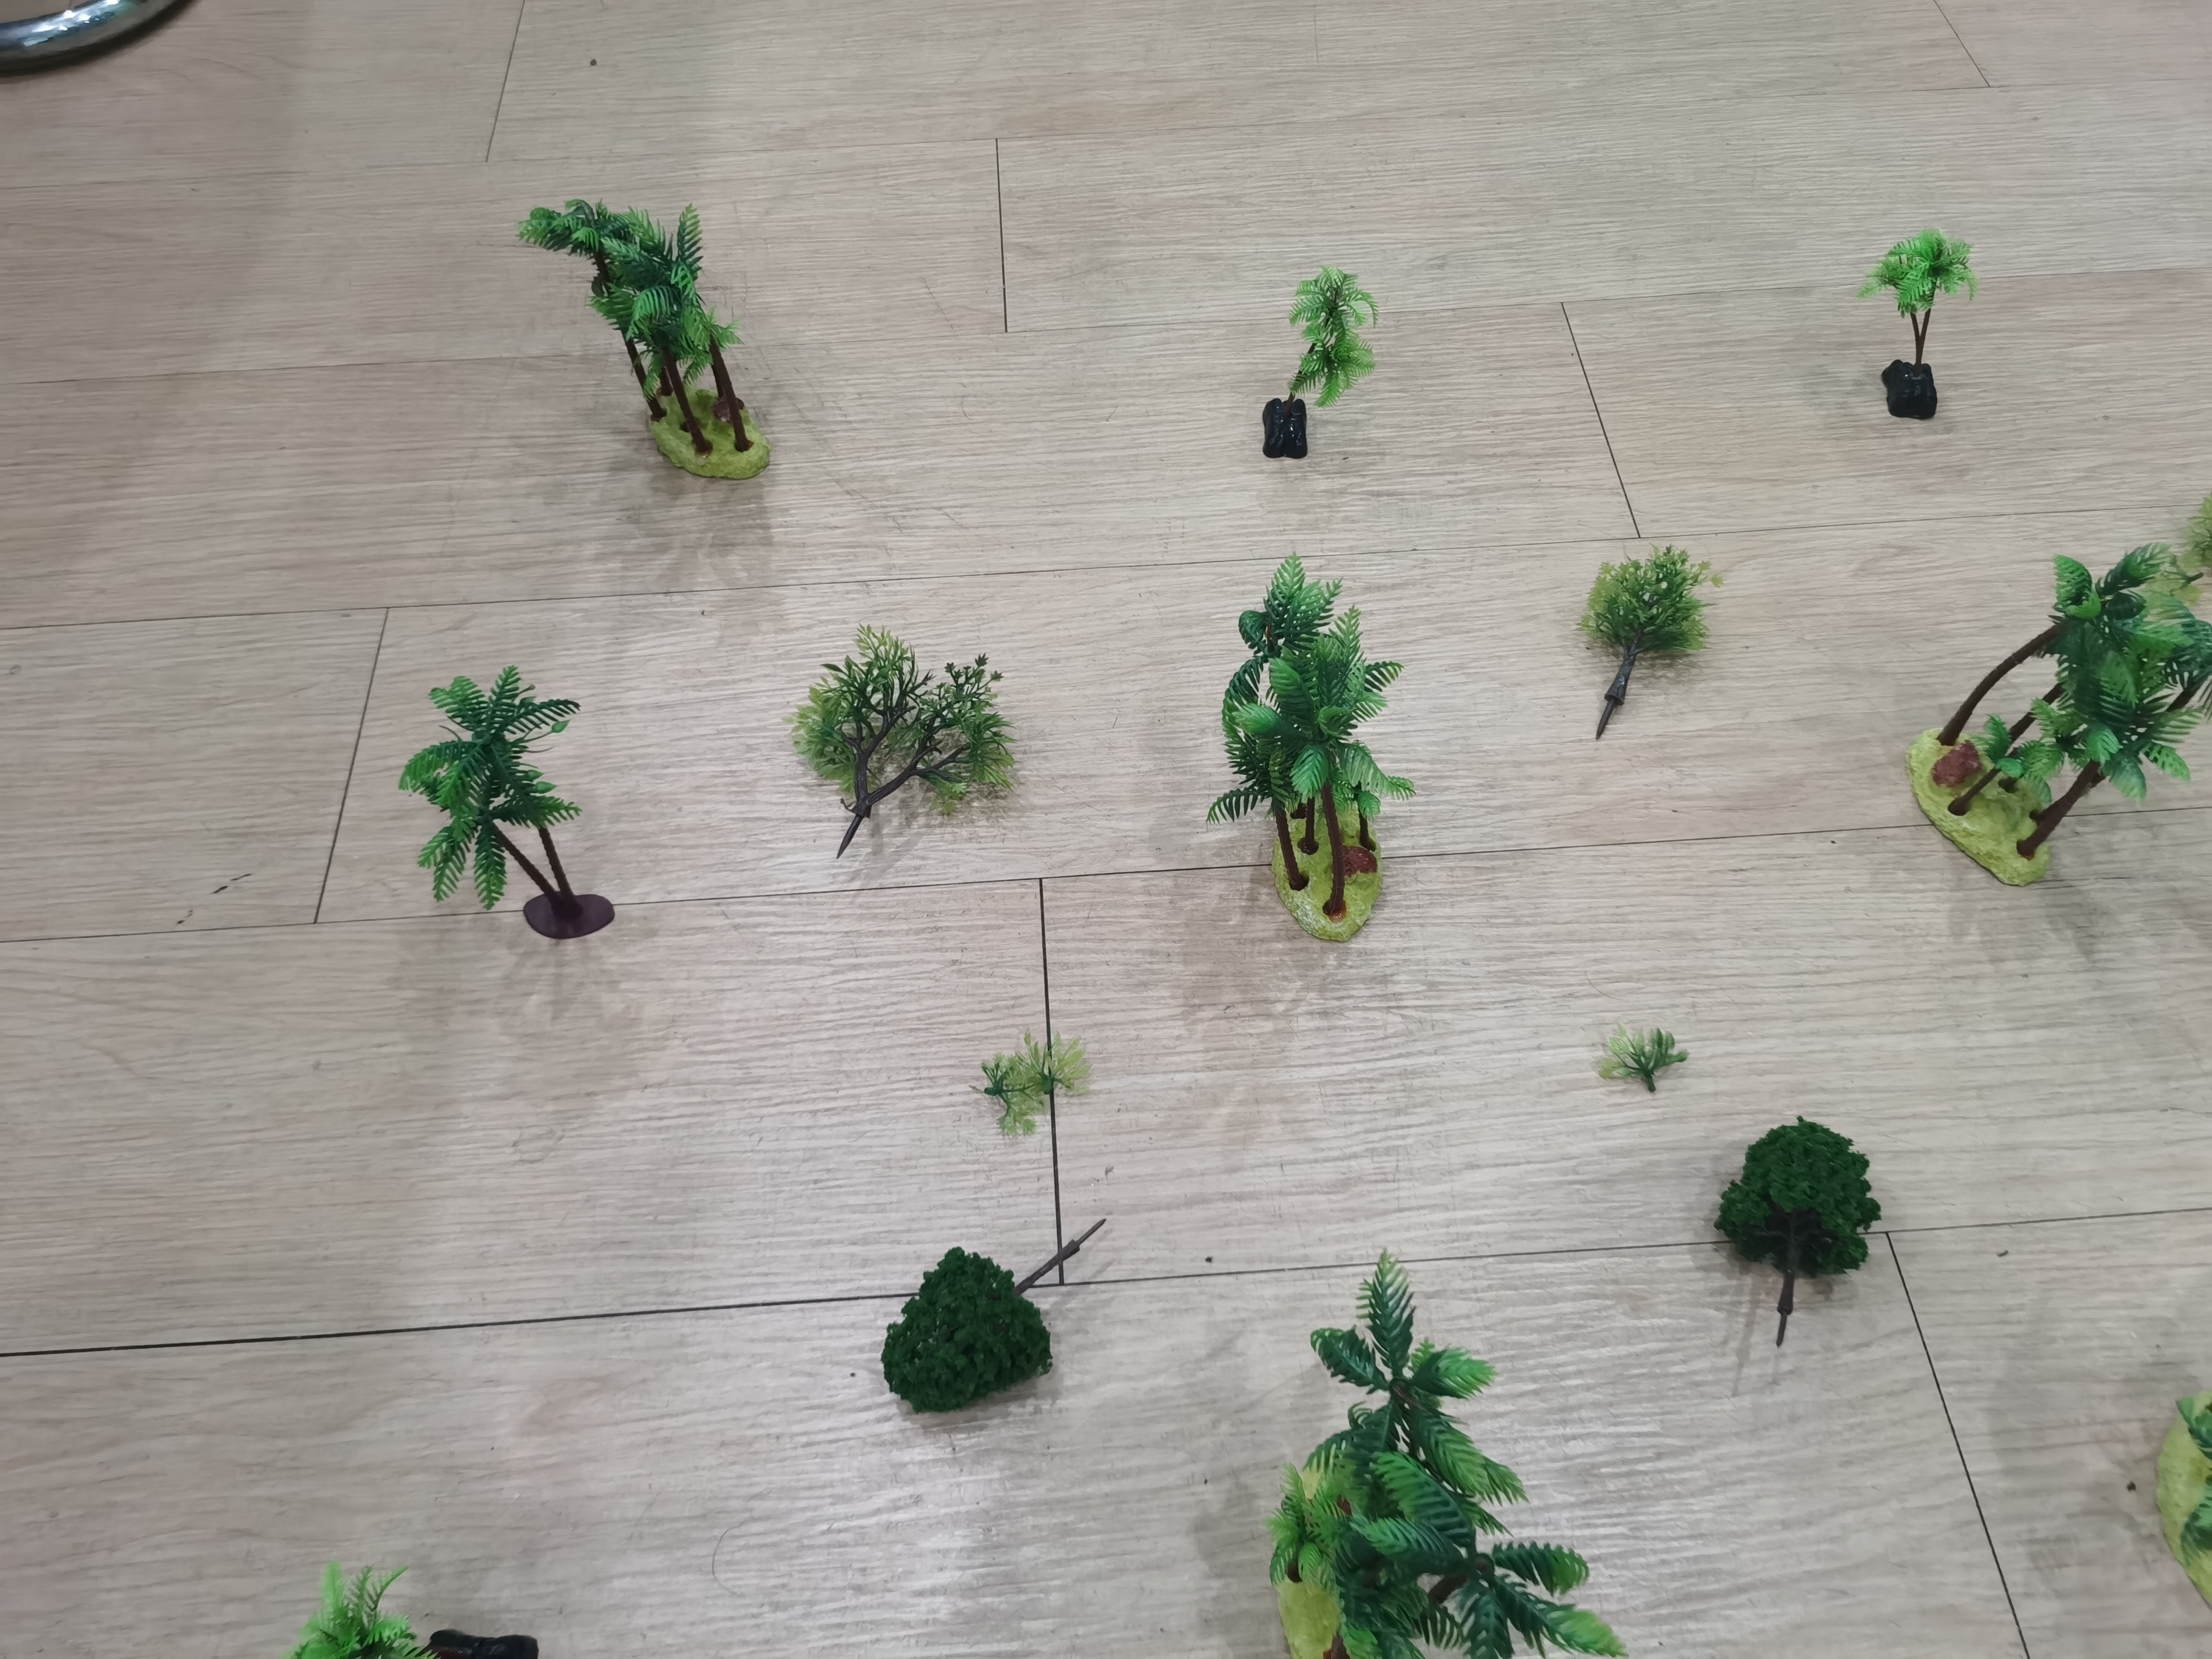corn: (1251, 1244, 1646, 1656), (1916, 547, 2195, 894), (1214, 568, 1420, 938), (524, 207, 766, 481), (401, 674, 618, 941), (1261, 270, 1374, 453), (1867, 225, 1958, 422)
